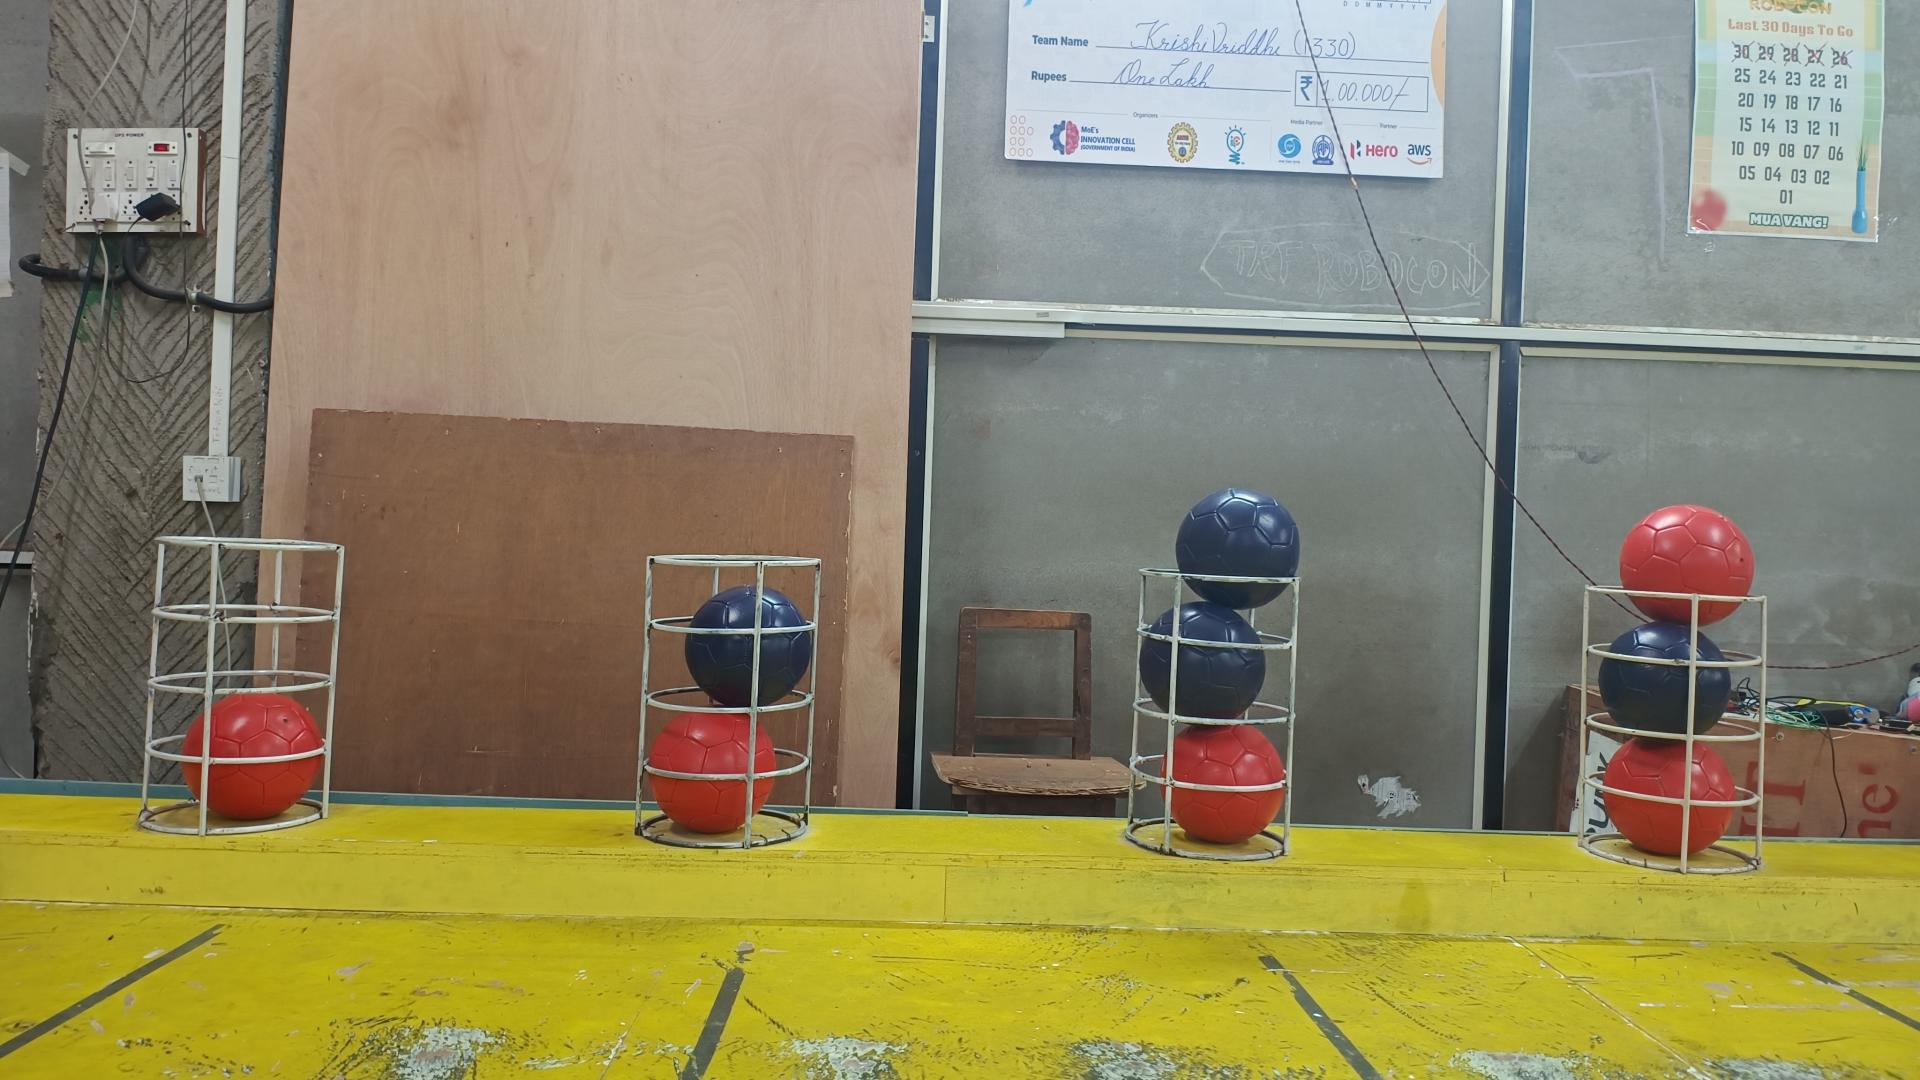dhoka: (687, 585, 815, 705), (1174, 491, 1302, 611), (1597, 624, 1733, 736), (1139, 604, 1267, 720)
laale: (181, 692, 323, 820), (1618, 504, 1756, 628), (647, 711, 778, 835), (1602, 741, 1737, 861), (1159, 728, 1282, 844)
